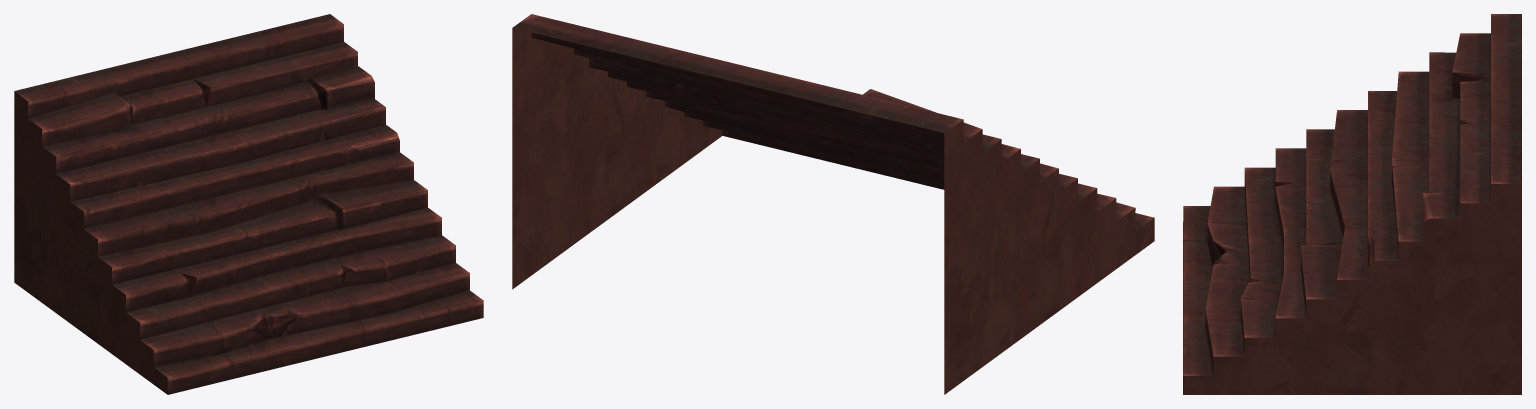
File: lava_stair_half_01.fbx
3 views of the same model, side by side, from view 1: azimuth 30°, elevation 25°; view 2: azimuth 150°, elevation 25°; view 3: azimuth 270°, elevation 25° (orthographic). The views are drawn at different scales.
Visible parts, largest first — view 1: obj1.013; view 2: obj1.013; view 3: obj1.013.
Part boxes in pixels (left/top/right/bottom): obj1.013: left=14, top=14, right=483, bottom=394; obj1.013: left=512, top=14, right=1154, bottom=394; obj1.013: left=1183, top=14, right=1521, bottom=394.
Size of the model in its own units: 4.75 by 2.75 by 4.
